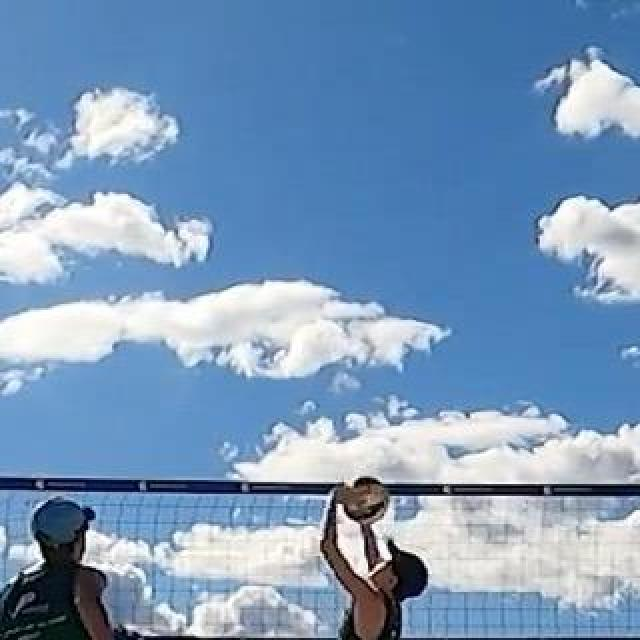volleyball: (341, 477, 383, 523)
